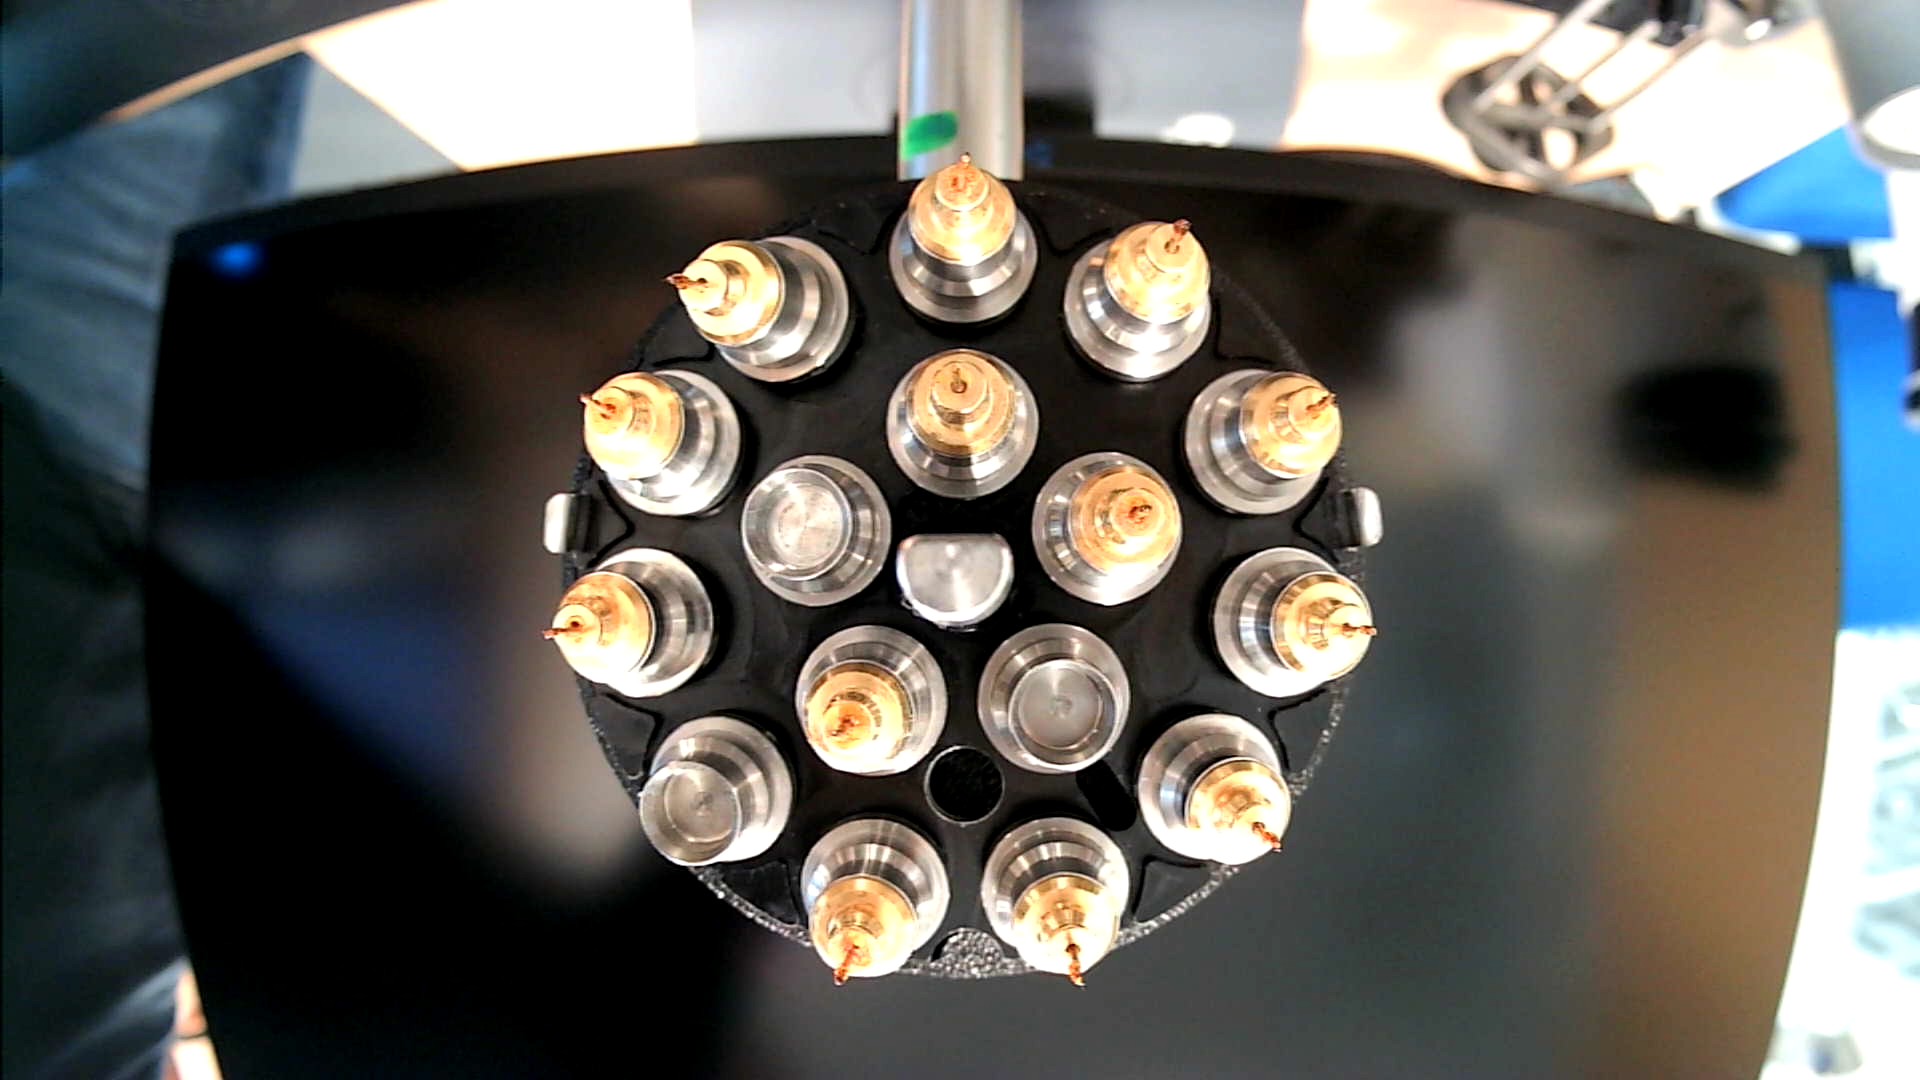adapter: (638, 716, 796, 876), (978, 622, 1133, 781), (740, 455, 894, 613)
hole: (920, 740, 1007, 832)
misplaced: (665, 235, 855, 386)
pin: (541, 545, 725, 702), (796, 812, 952, 992), (977, 811, 1130, 992), (1207, 546, 1379, 703), (887, 152, 1040, 327), (578, 364, 746, 522), (1064, 214, 1215, 385), (1135, 709, 1296, 868), (884, 345, 1044, 502), (793, 624, 952, 781), (1030, 448, 1184, 607), (1185, 367, 1345, 520)
rod: (891, 527, 1021, 632)
